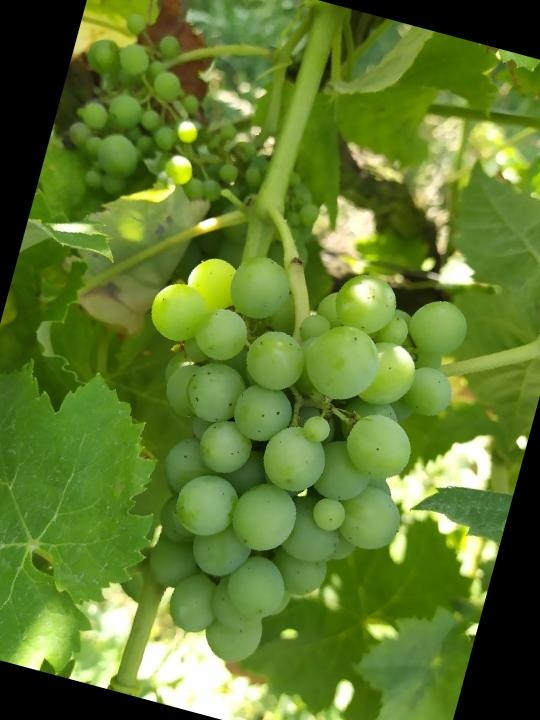grape: (66, 221, 479, 700)
